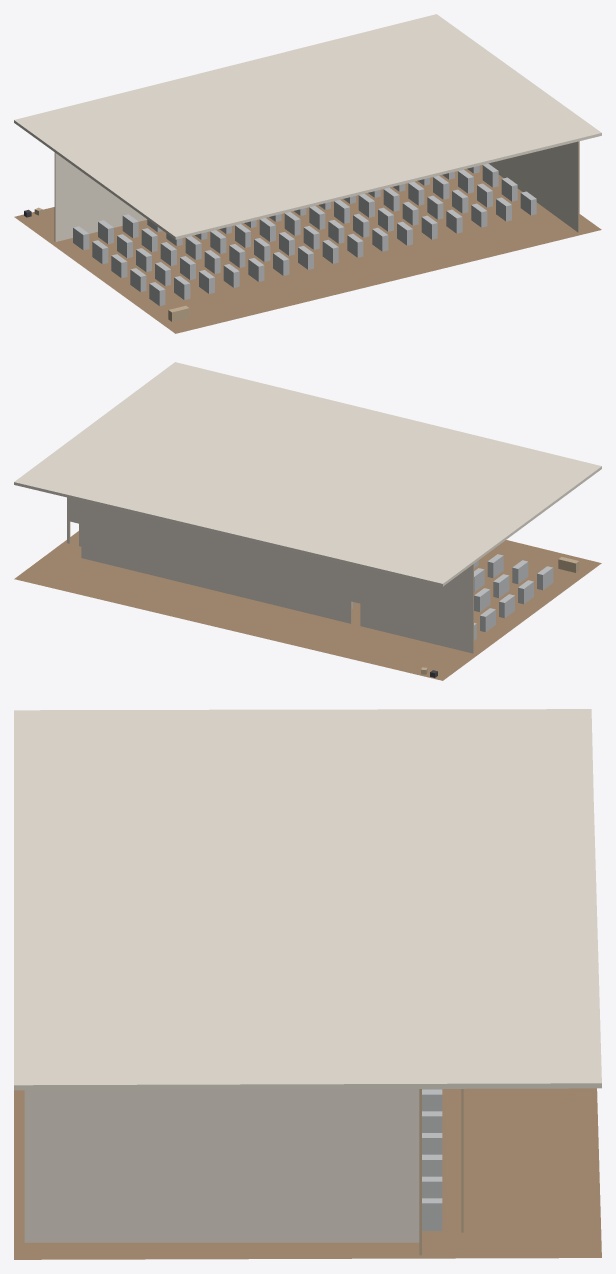
File: interior.glb
The picture shows the model from 3 angles, top to bottom: view 1: azimuth 30°, elevation 25°; view 2: azimuth 150°, elevation 25°; view 3: azimuth 270°, elevation 25°; orthographic projection. The views are drawn at different scales.
Parts seen in each view (by area): view 1: slabs, coarse-s0, partitions; view 2: slabs, partitions, coarse-s0; view 3: slabs, partitions, coarse-s0.
Part boxes in pixels (box(x1,y1,x2,y2)): slabs: box(14, 14, 601, 333); coarse-s0: box(24, 163, 536, 321); partitions: box(54, 141, 579, 241); slabs: box(14, 362, 601, 680); partitions: box(67, 497, 473, 653); coarse-s0: box(351, 554, 579, 677); slabs: box(14, 709, 601, 1259); partitions: box(24, 1089, 463, 1255); coarse-s0: box(422, 1089, 442, 1230).
Bounding box in the file's own units: 41.47 × 9 × 27.39.
